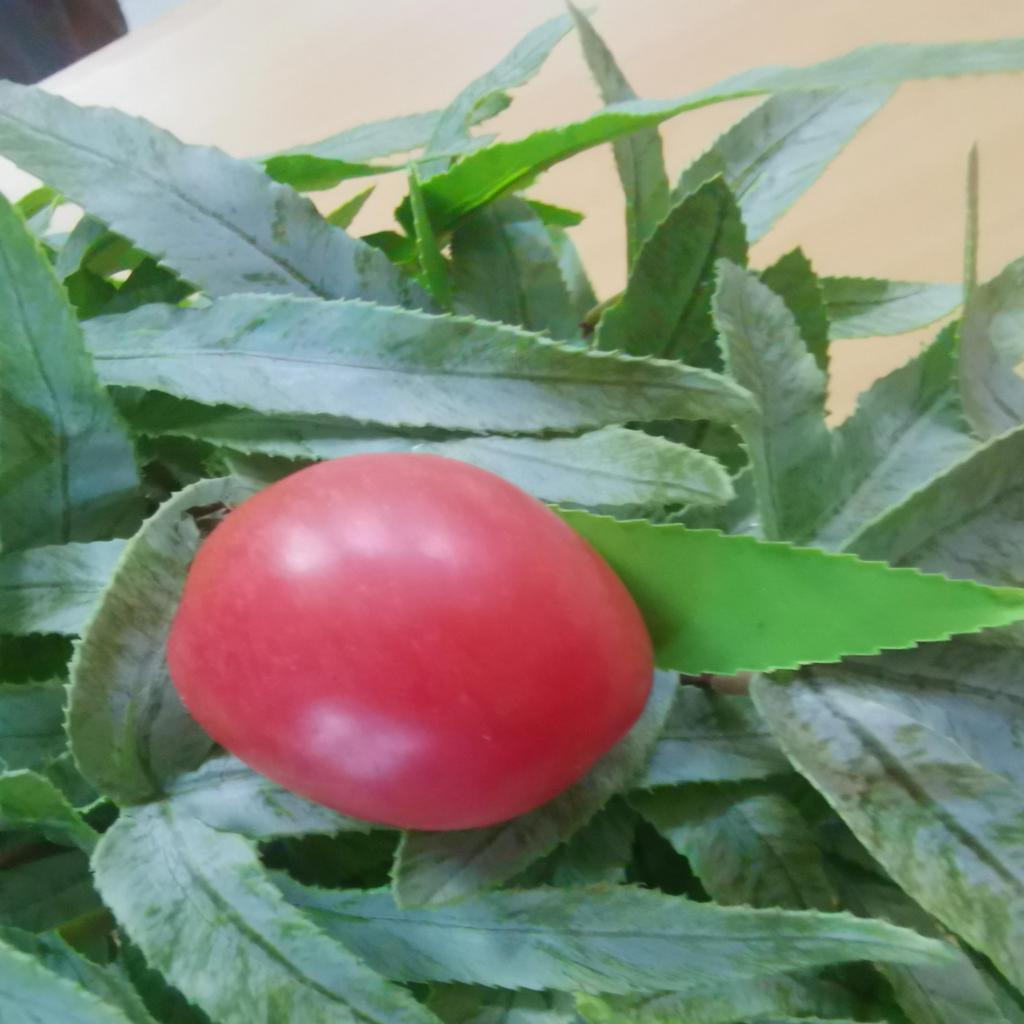tomato: (170, 456, 666, 850)
